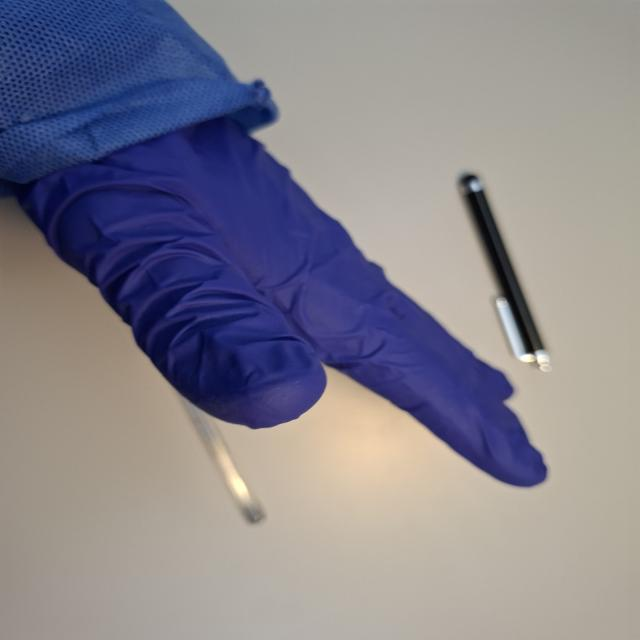glove_on: (6, 85, 554, 493)
